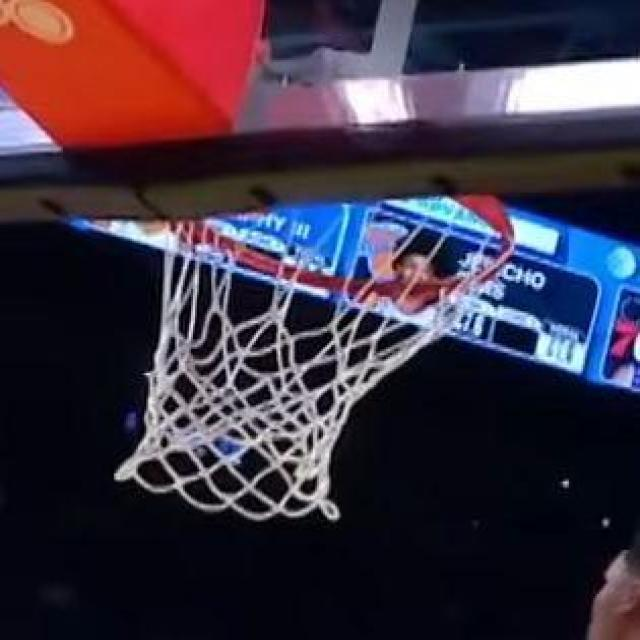hoop: (208, 112, 526, 508)
